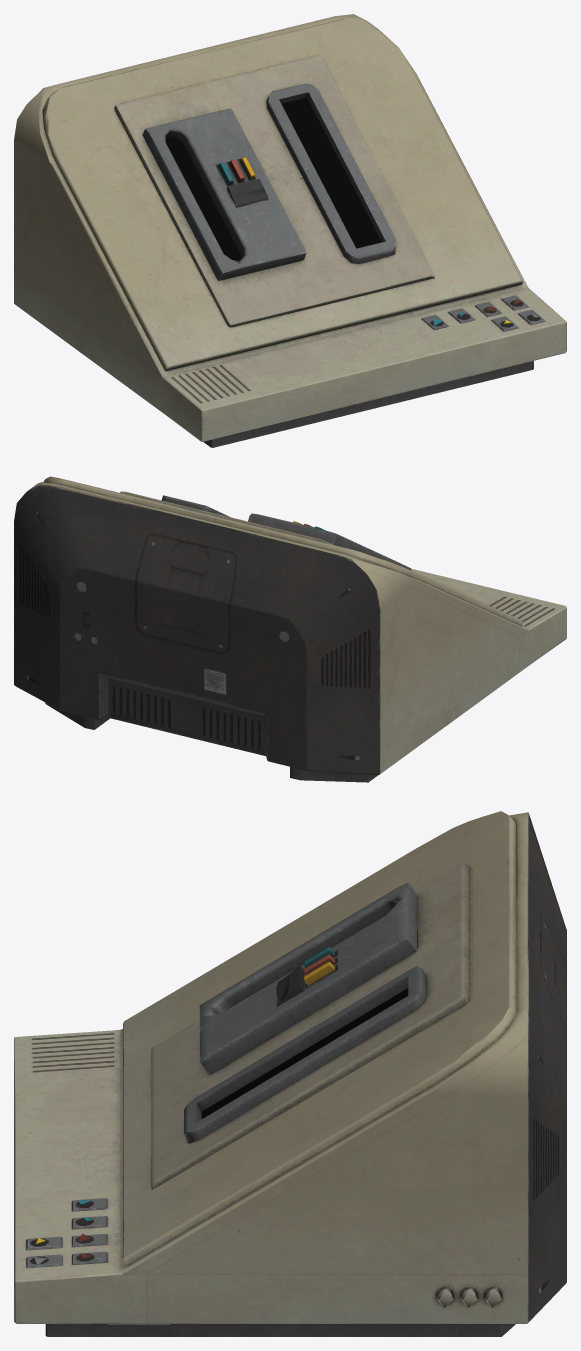
File: SM_ConsolsLeverSlide_A_mo.glb
3 renders of one model, top to bottom at view 1: azimuth 30°, elevation 25°; view 2: azimuth 150°, elevation 25°; view 3: azimuth 270°, elevation 25°, orthographic. The views are drawn at different scales.
Visible parts, largest first — view 1: SM_ConsolsLeverSlide_A_mo; view 2: SM_ConsolsLeverSlide_A_mo; view 3: SM_ConsolsLeverSlide_A_mo.
Boxes of the visible parts, x1,y1,x2,y2 form: SM_ConsolsLeverSlide_A_mo: [14, 14, 566, 447]; SM_ConsolsLeverSlide_A_mo: [14, 476, 566, 782]; SM_ConsolsLeverSlide_A_mo: [14, 811, 566, 1336].
Bounding box in the file's own units: 0.8048 × 0.4792 × 0.7567.
Materials: 1 (1 with a texture image).
